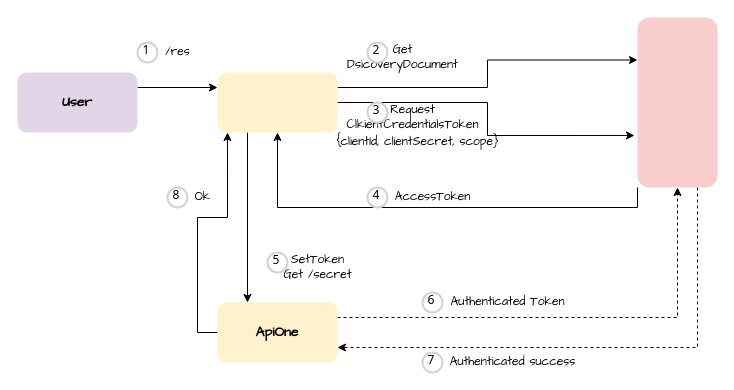
Some shapes in this 734 by 390 pixel diagram are drawn without their labels. The shapes that lost their labels are listed below. From the top down, each one's centre as x and y in pixels, then its label:
(x=277, y=102): ApiTwo
(x=677, y=102): Identity Server
